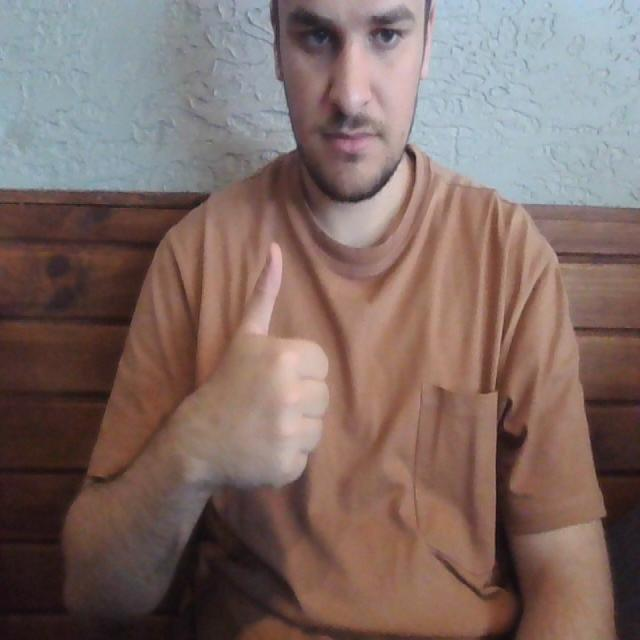Tamam: (195, 230, 334, 500)
